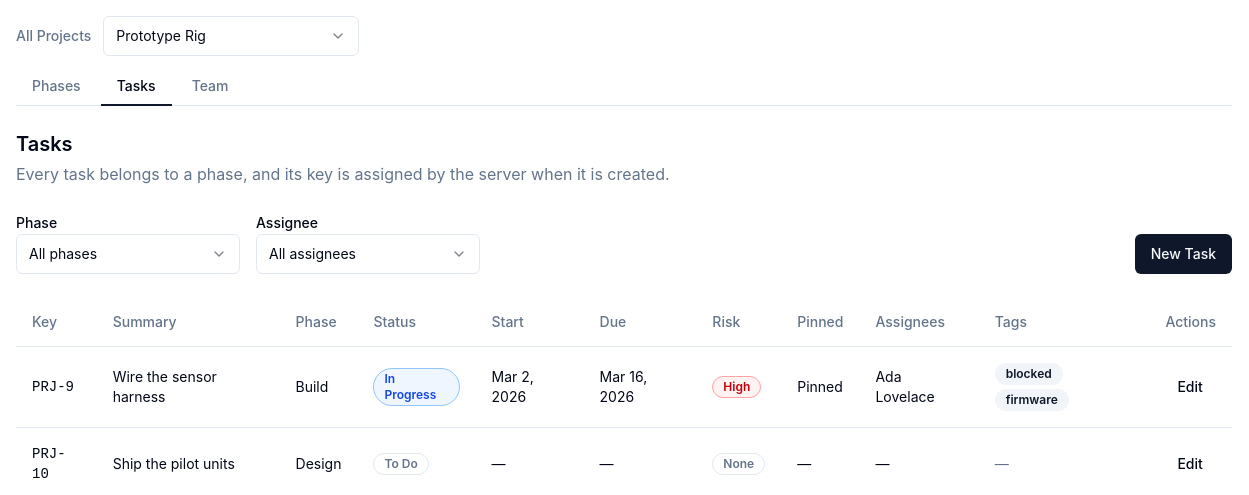
Test case: Tasks screen › re-fetches with assignee_id in the params when the assignee filter is set
Check: the text "Wire the sensor harness" is shown, box top-left (97, 346), bottom-right (280, 427)
Click the dropdown named "Filter by assignee": point(368, 254) top-left (256, 234), bottom-right (480, 274)
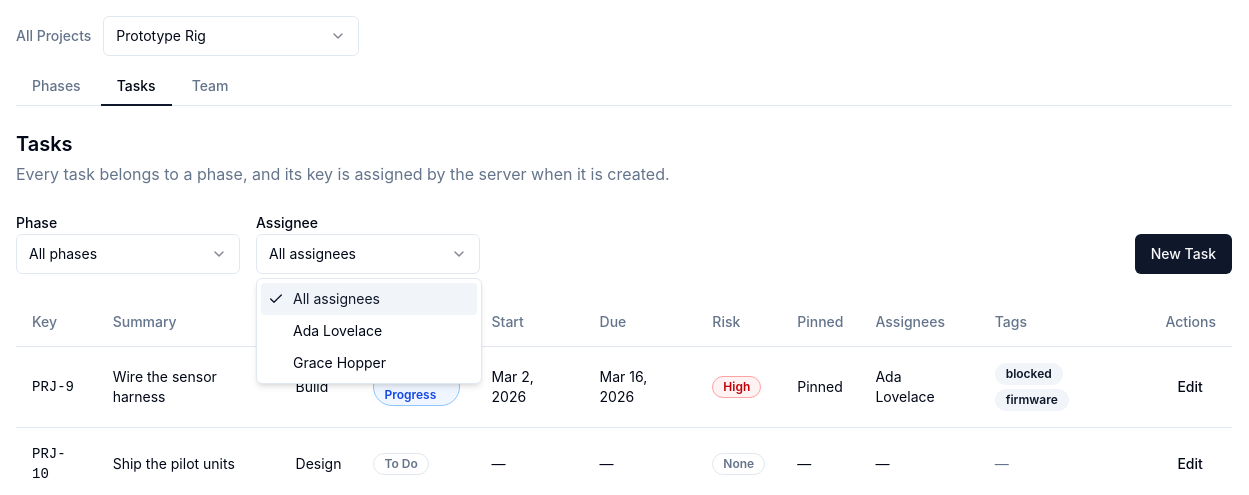
Click the option "Grace Hopper": point(340, 362) top-left (293, 354), bottom-right (386, 371)
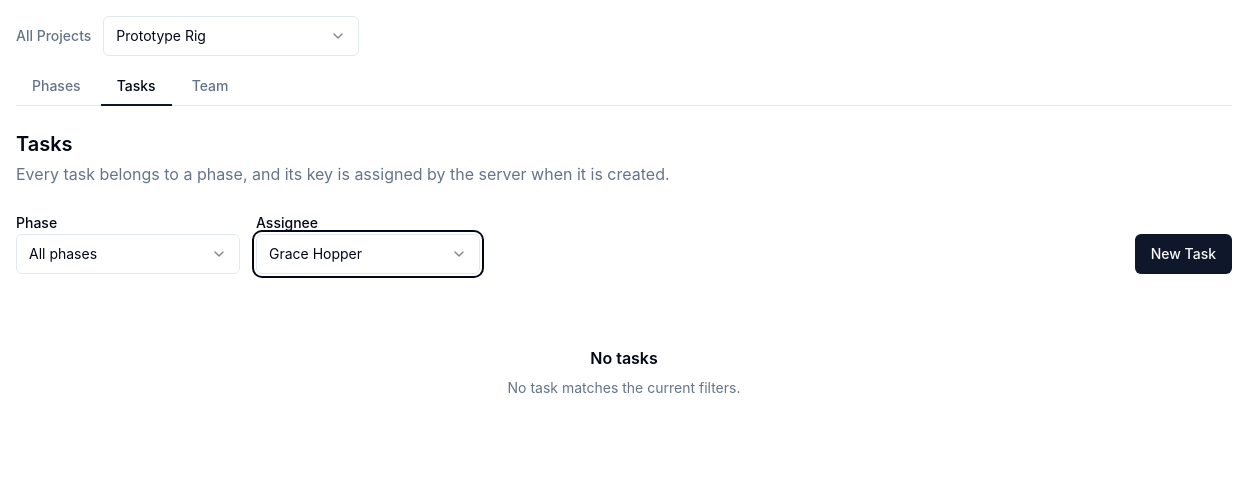
Check: the text "No task matches the current filters." is shown, box top-left (508, 379), bottom-right (740, 396)
